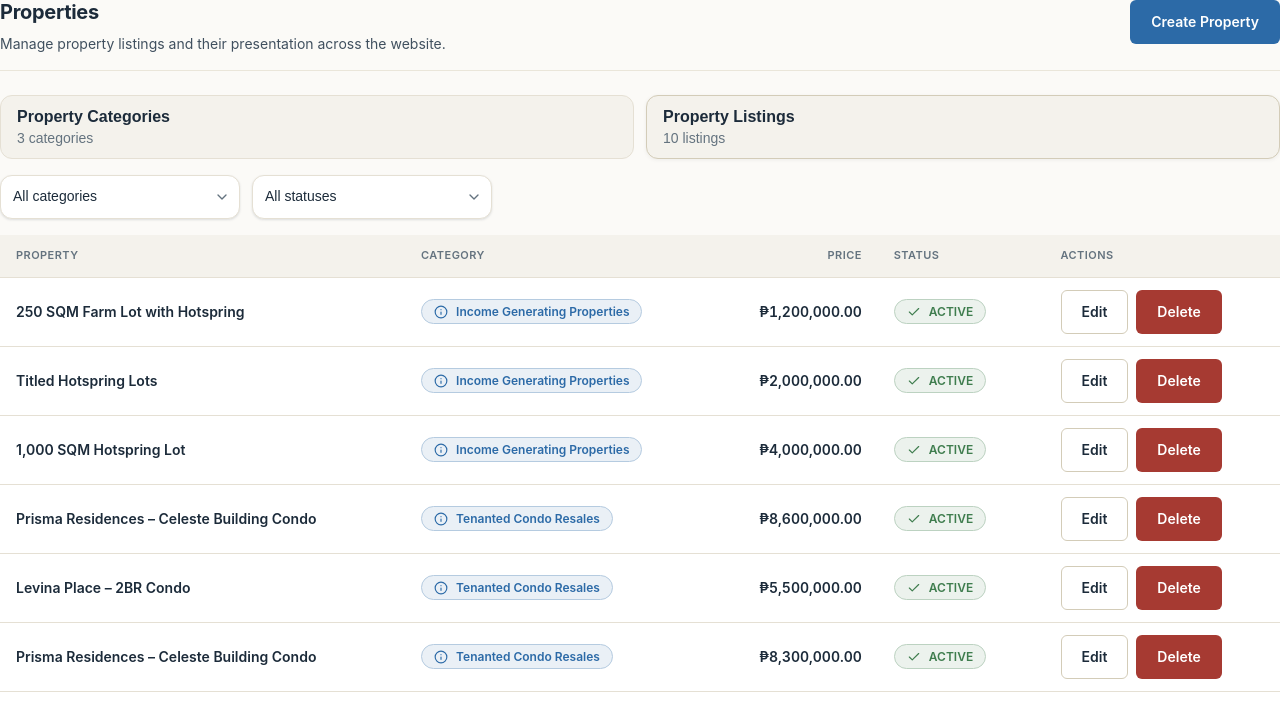
Test: CatalogPage › filters by category when category select changes
Expected: the text "250 SQM Farm Lot with Hotspring" is shown, [16,303,244,320]
Select "Tenanted Condo Resales" in the dropdown named "Filter by category" at (120, 197), box [0,175,240,219]
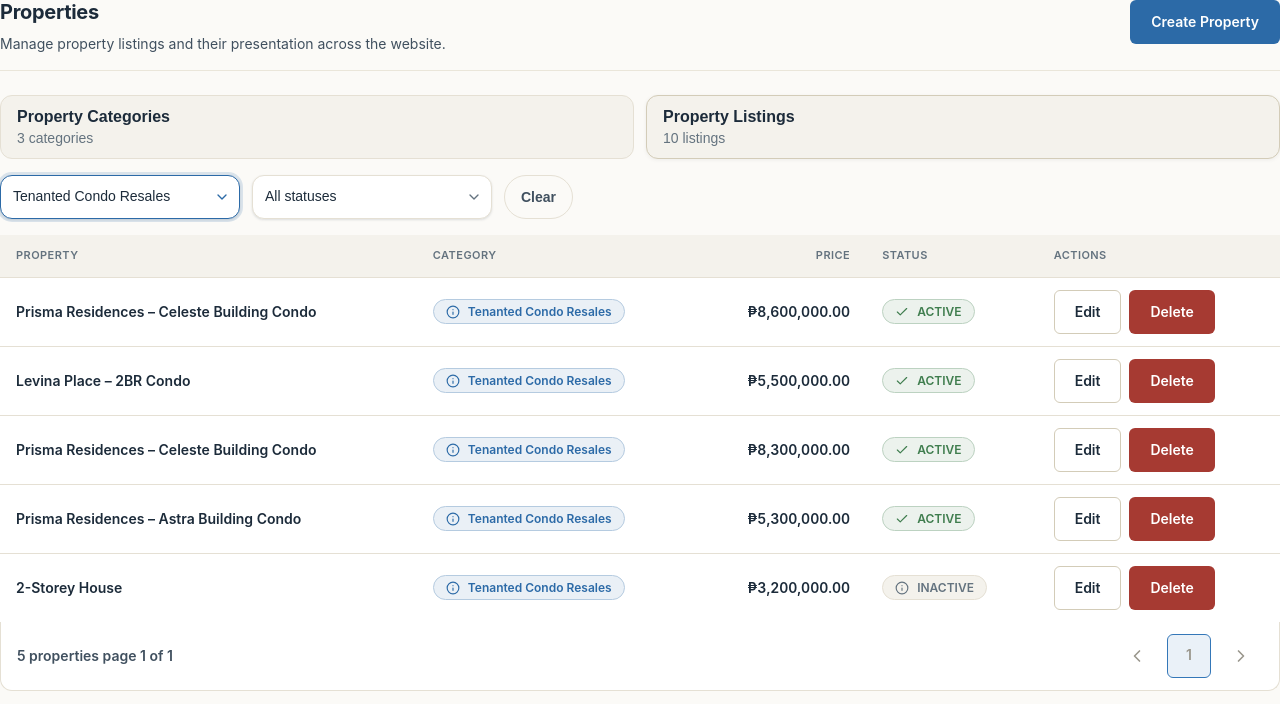
Expected: the text "250 SQM Farm Lot with Hotspring" is gone
